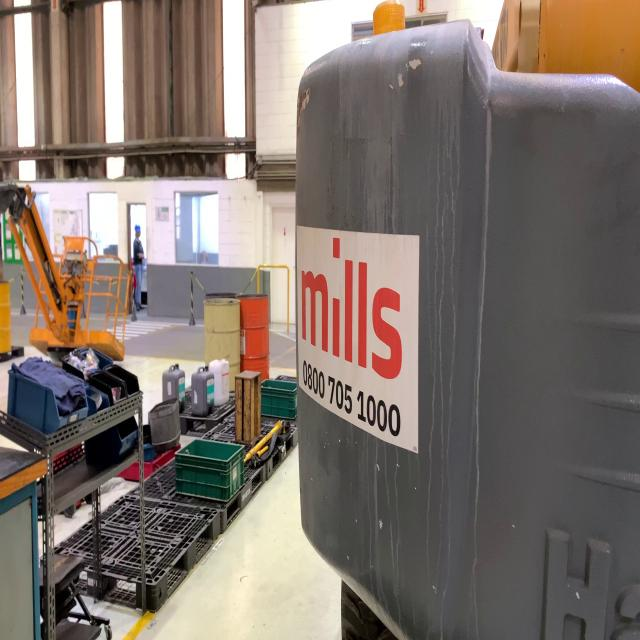Adesivos: (294, 222, 422, 460)
